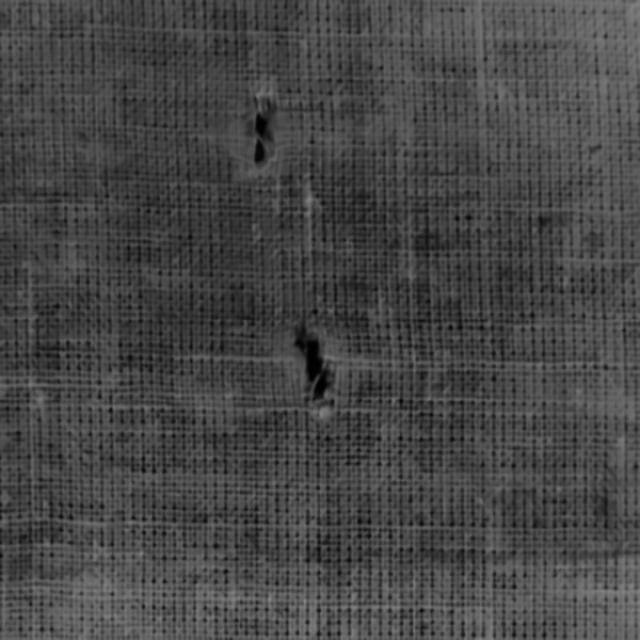other: (286, 318, 344, 412), (238, 83, 290, 177)
